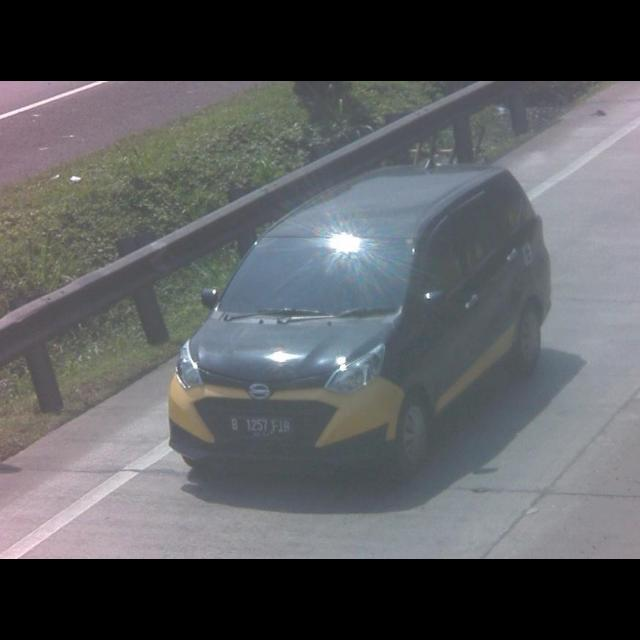plate: (228, 417, 294, 439)
